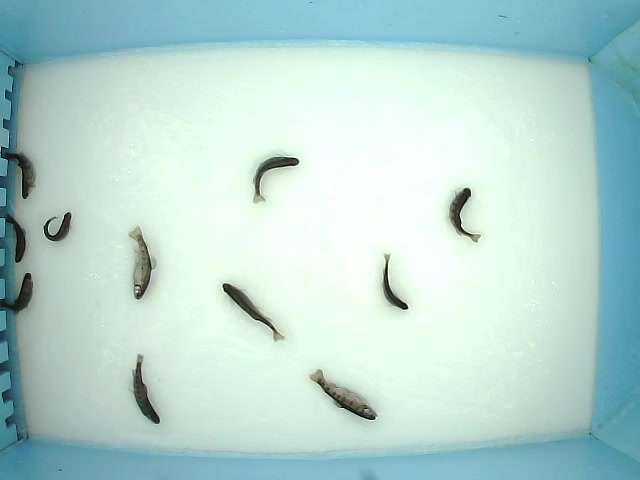fish: (221, 281, 286, 343), (308, 368, 378, 421), (252, 154, 300, 206), (127, 352, 161, 425), (126, 224, 157, 301), (447, 187, 482, 244), (1, 152, 37, 201), (379, 253, 409, 311), (1, 272, 34, 316), (3, 213, 27, 264), (43, 212, 73, 243)
